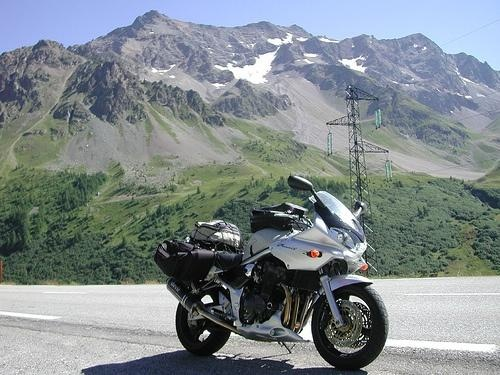motorbike: (153, 173, 394, 371)
